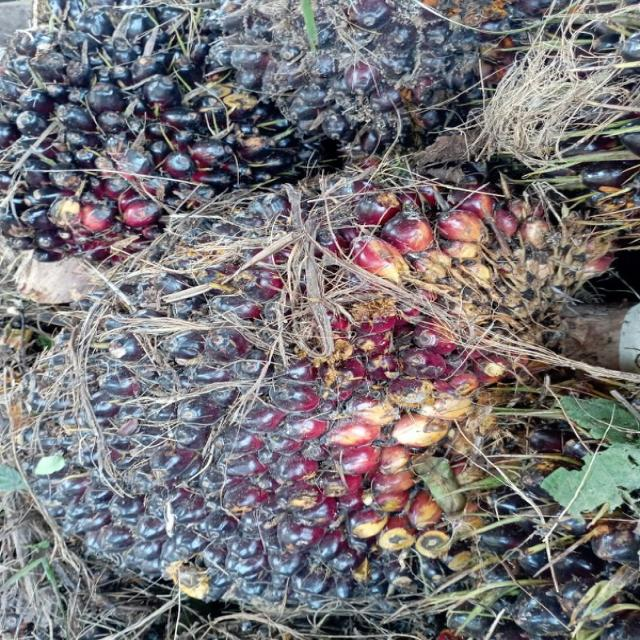fraksi 1: (19, 143, 606, 640)
